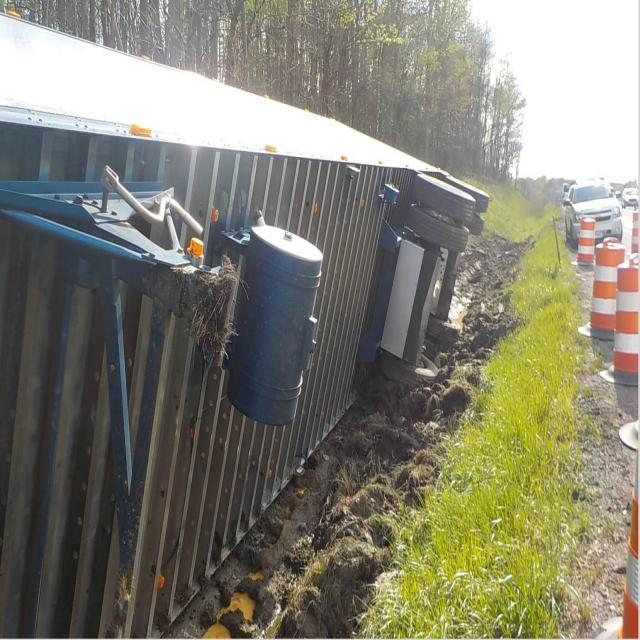Accident: (3, 11, 496, 640)
